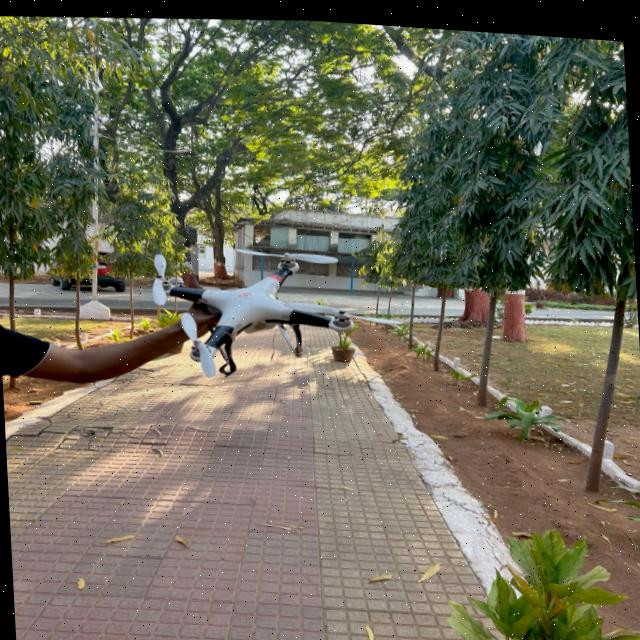drone: (140, 213, 386, 392)
